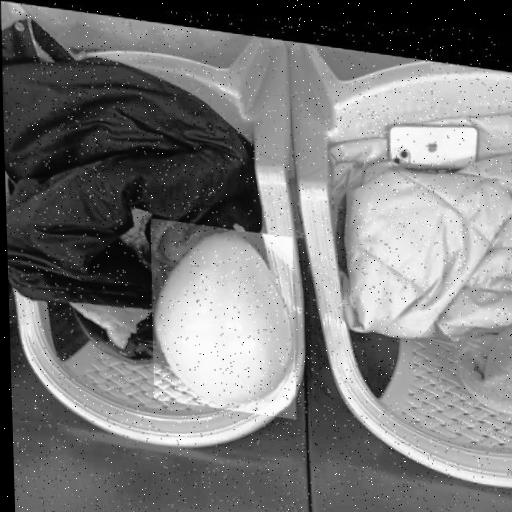balloon: (149, 215, 297, 414)
